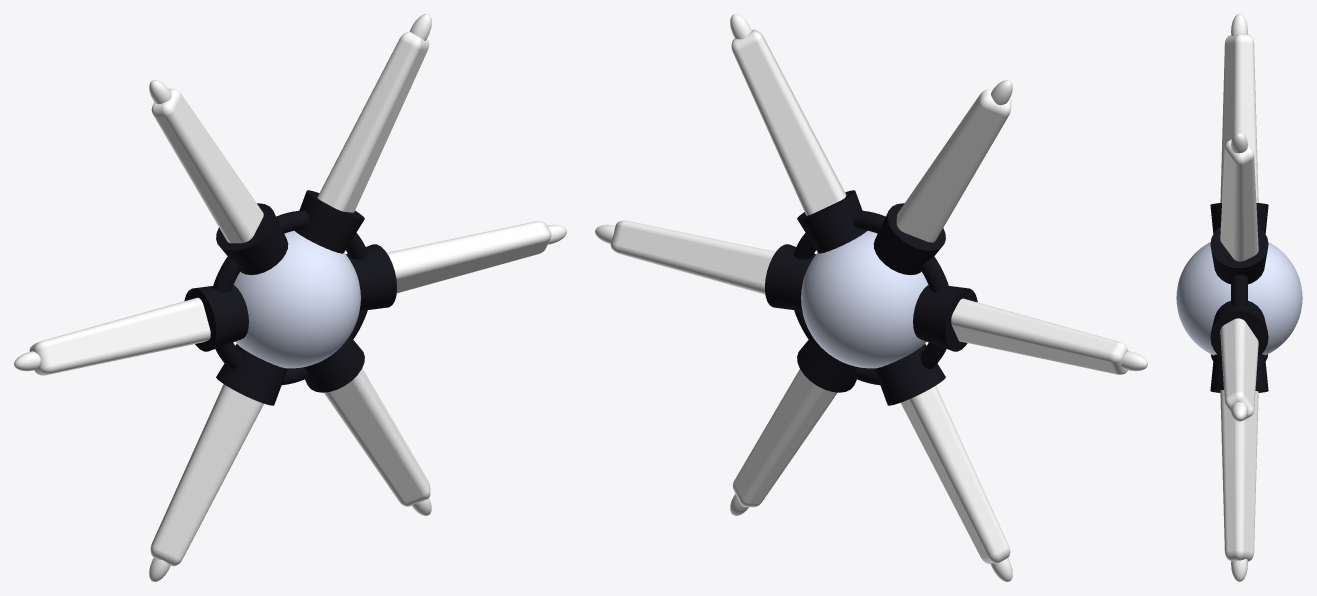
Rendered from hero.glb.
3 renders of one model, left to right at view 1: azimuth 30°, elevation 25°; view 2: azimuth 150°, elevation 25°; view 3: azimuth 270°, elevation 25°, orthographic. The views are drawn at different scales.
Parts seen in each view (by area): view 1: chrome_blades, dark_collar, glass_hub; view 2: chrome_blades, dark_collar, glass_hub; view 3: chrome_blades, glass_hub, dark_collar.
Boxes of the visible parts, <box> form: chrome_blades: <box>14,14,566,581</box>; dark_collar: <box>184,190,396,405</box>; glass_hub: <box>233,231,360,368</box>; chrome_blades: <box>595,14,1147,581</box>; dark_collar: <box>765,190,977,405</box>; glass_hub: <box>801,231,928,368</box>; chrome_blades: <box>1220,14,1258,581</box>; glass_hub: <box>1176,242,1302,355</box>; dark_collar: <box>1210,203,1268,392</box>.
Bounding box in the file's own units: 4.7 × 4.08 × 1.04.
